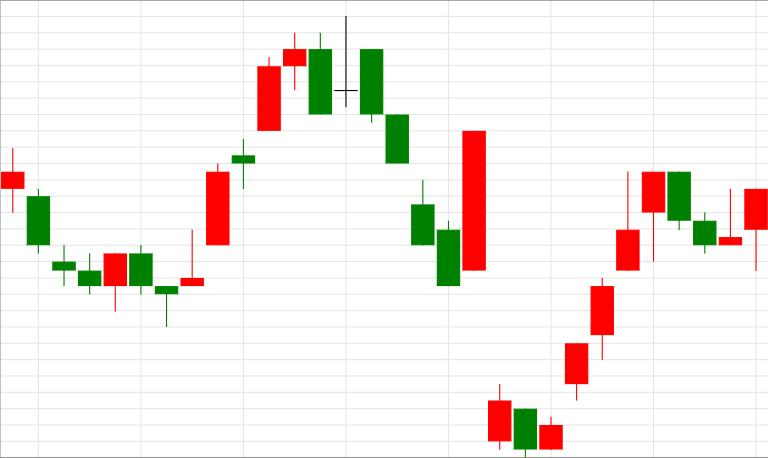hanging_man_fall: (540, 172, 664, 448)
